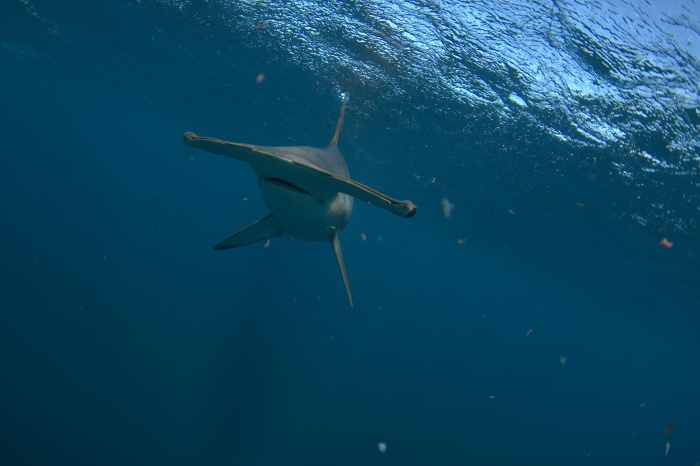Hammer: (152, 78, 439, 314)
